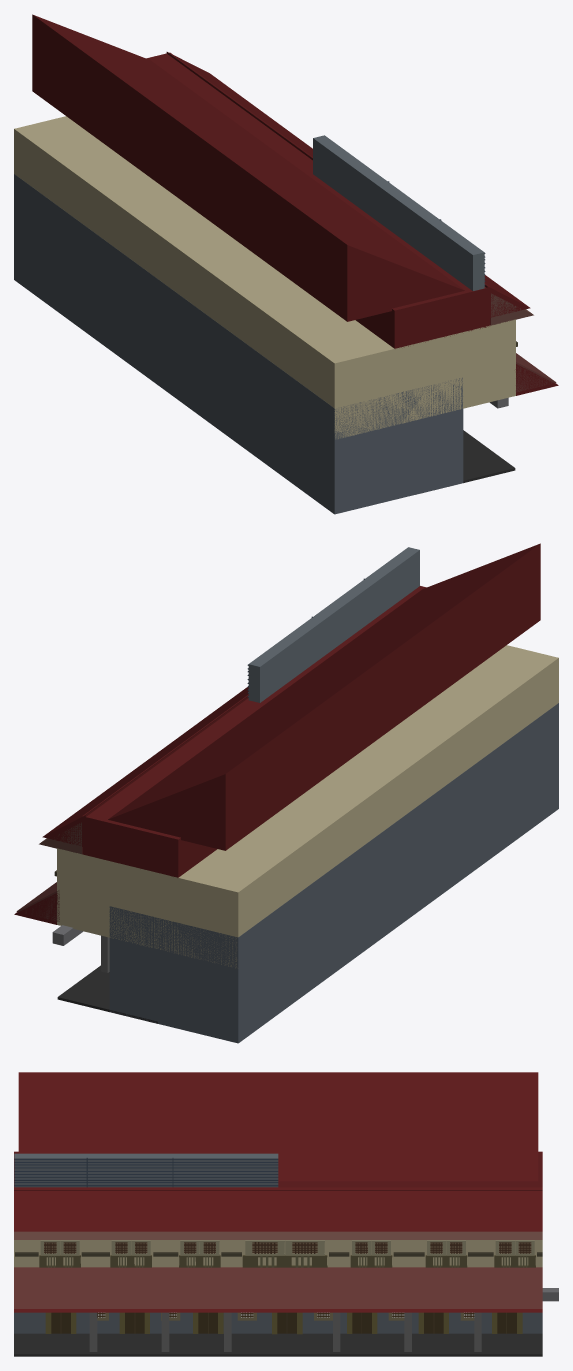
The picture shows the model from 3 angles, top to bottom: view 1: azimuth 30°, elevation 25°; view 2: azimuth 150°, elevation 25°; view 3: azimuth 270°, elevation 25°; orthographic projection. The views are drawn at different scales.
Visible parts, largest first — view 1: Cube, Cube.001, Cube.003, Cube.035, Cube.053, Cube.055, Cube.006, Cube.015, Cube.002, Cube.009; view 2: Cube, Cube.001, Cube.003, Cube.035, Cube.053, Cube.055, Cube.006, Cube.002, Cube.015, Cube.009; view 3: Cube.003, Cube.055, Cube.009, Cube.006, Cube.053, Cube.001, Cube, Cube.015, Cube.063, Cube.020, Cube.011, Cube.013 (+8 smaller).
Boxes of the visible parts, bbox=[...] form: Cube: bbox=[14, 174, 463, 514]; Cube.001: bbox=[14, 116, 515, 439]; Cube.003: bbox=[32, 14, 464, 321]; Cube.035: bbox=[146, 52, 490, 348]; Cube.053: bbox=[313, 135, 484, 290]; Cube.055: bbox=[166, 52, 530, 318]; Cube.006: bbox=[422, 430, 515, 493]; Cube.015: bbox=[490, 293, 533, 325]; Cube.002: bbox=[515, 364, 558, 395]; Cube.009: bbox=[516, 353, 556, 392]; Cube: bbox=[109, 703, 558, 1043]; Cube.001: bbox=[57, 645, 558, 968]; Cube.003: bbox=[108, 543, 540, 850]; Cube.035: bbox=[82, 586, 426, 877]; Cube.053: bbox=[248, 547, 419, 702]; Cube.055: bbox=[42, 687, 248, 846]; Cube.006: bbox=[57, 965, 157, 1023]; Cube.002: bbox=[14, 893, 57, 924]; Cube.015: bbox=[39, 822, 82, 854]; Cube.009: bbox=[16, 882, 59, 921]; Cube.003: bbox=[18, 1072, 538, 1181]; Cube.055: bbox=[14, 1187, 542, 1231]; Cube.009: bbox=[14, 1267, 542, 1308]; Cube.006: bbox=[14, 1333, 542, 1356]; Cube.053: bbox=[14, 1153, 278, 1187]; Cube.001: bbox=[14, 1240, 542, 1267]; Cube: bbox=[14, 1312, 542, 1333]; Cube.015: bbox=[14, 1231, 542, 1239]; Cube.063: bbox=[14, 1157, 278, 1187]; Cube.020: bbox=[39, 1255, 535, 1267]; Cube.011: bbox=[40, 1240, 534, 1255]; Cube.013: bbox=[51, 1312, 516, 1333].
Bounding box in the file's own units: 1390 × 1560 × 3543.
